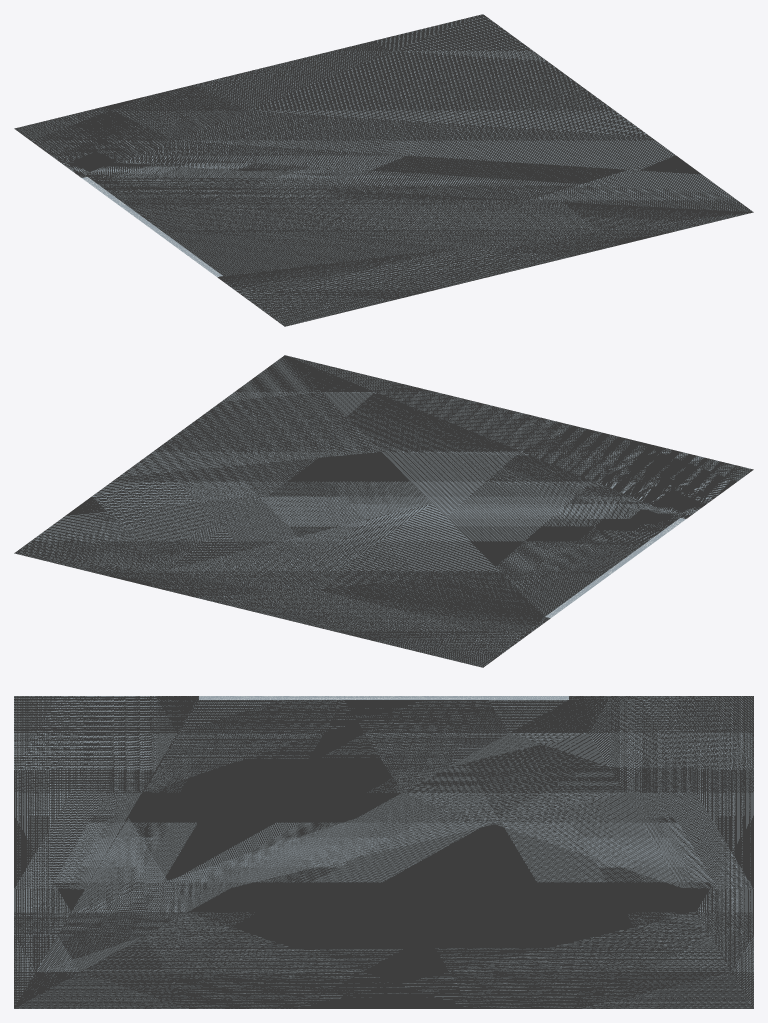
The model's file is lane_side.fbx.
The picture shows the model from 3 angles, top to bottom: view 1: azimuth 30°, elevation 25°; view 2: azimuth 150°, elevation 25°; view 3: azimuth 270°, elevation 25°; orthographic projection. The views are drawn at different scales.
Parts seen in each view (by area): view 1: Model; view 2: Model; view 3: Model.
Part boxes in pixels (x1,y1,x2,y2): Model: (14,14,753,326); Model: (14,355,753,667); Model: (14,696,753,1008).
Size of the model in its own units: 4 by 0 by 4.
